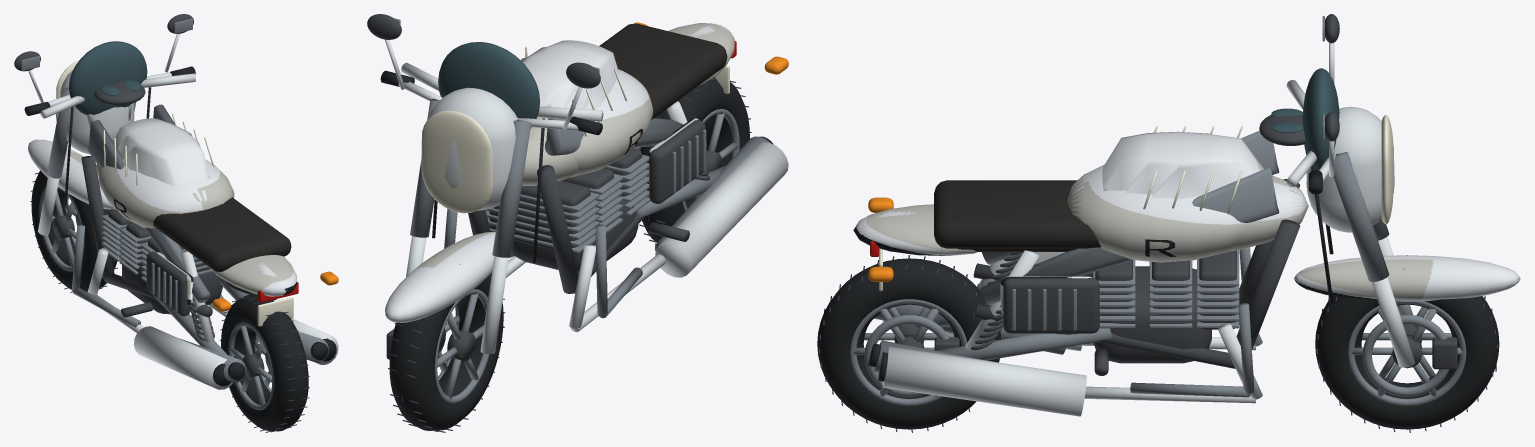
File: revenant.glb
3 renders of one model, left to right at view 1: azimuth 30°, elevation 25°; view 2: azimuth 150°, elevation 25°; view 3: azimuth 270°, elevation 25°, orthographic. The views are drawn at different scales.
Parts seen in each view (by area): view 1: Paint, Brushed steel, Chrome, Engine, Rubber.001, Seat leather, Glass, Rubber.002, Rubber, Brushed steel.001, Headlight, Brushed steel.002 (+3 smaller); view 2: Chrome, Paint, Brushed steel, Engine, Rubber.002, Seat leather, Headlight, Glass, Rubber.001, Brushed steel.002, Rubber, Engine.002 (+2 smaller); view 3: Paint, Brushed steel, Engine, Chrome, Rubber.001, Rubber.002, Seat leather, Brushed steel.002, Brushed steel.001, Glass, Headlight, Rubber (+3 smaller).
Boxes of the visible parts, x1,y1,x2,y2 form: Paint: (28,118,296,304); Brushed steel: (21,18,328,382); Chrome: (28,33,338,389); Engine: (14,14,274,340); Rubber.001: (221,294,308,431); Seat leather: (153,197,291,271); Glass: (69,41,147,114); Rubber.002: (31,170,117,291); Rubber: (24,66,336,386); Brushed steel.001: (228,322,273,410); Headlight: (56,60,293,326); Brushed steel.002: (39,186,84,271); Chrome: (385,39,788,353); Paint: (385,23,734,322); Brushed steel: (394,18,769,318); Engine: (367,14,710,359); Rubber.002: (389,273,503,430); Seat leather: (599,23,727,119); Headlight: (421,46,729,213); Glass: (438,42,539,128); Rubber.001: (640,78,749,242); Brushed steel.002: (435,289,489,403); Rubber: (380,70,773,262); Engine.002: (388,256,505,432); Paint: (853,131,1520,313); Brushed steel: (873,16,1389,397); Engine: (934,14,1457,375); Chrome: (882,42,1415,416); Rubber.001: (817,258,1001,429); Rubber.002: (1315,296,1499,429); Seat leather: (934,180,1101,251); Brushed steel.002: (1348,301,1466,406); Brushed steel.001: (850,299,967,406); Glass: (1271,68,1339,170); Headlight: (879,115,1393,290); Rubber: (868,165,1333,381).
Bounding box in the file's own units: 1.02 × 1.49 × 2.63.
Materials: 10 (1 with a texture image).
